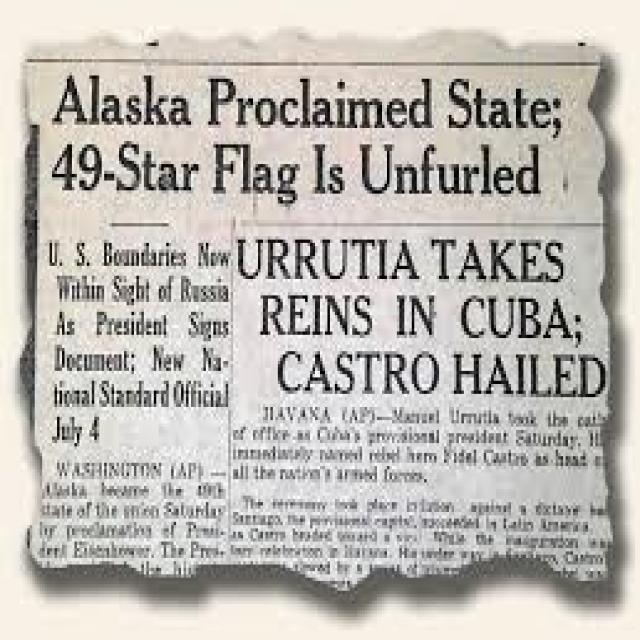paper: (42, 53, 588, 561)
